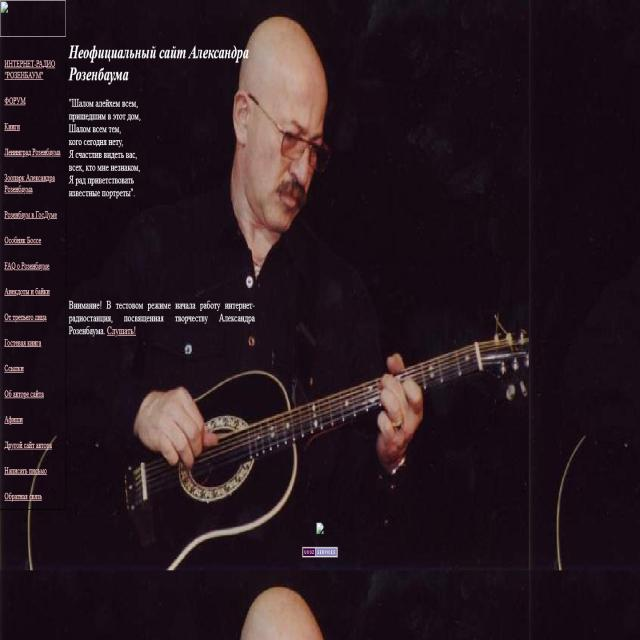heading: (67, 42, 251, 86)
image: (0, 0, 640, 640), (310, 517, 330, 540), (0, 0, 10, 17)
link: (2, 59, 57, 85), (1, 172, 59, 196), (2, 205, 62, 224), (2, 144, 61, 161), (3, 335, 44, 352), (2, 387, 48, 402), (4, 258, 52, 272), (3, 286, 51, 300), (4, 464, 48, 479), (3, 232, 44, 248), (3, 311, 49, 325), (4, 490, 44, 505), (2, 441, 56, 451), (2, 93, 29, 110), (106, 326, 138, 339), (2, 362, 29, 377), (2, 119, 23, 134), (2, 417, 30, 426)
text: (65, 293, 258, 343), (66, 94, 142, 206)
